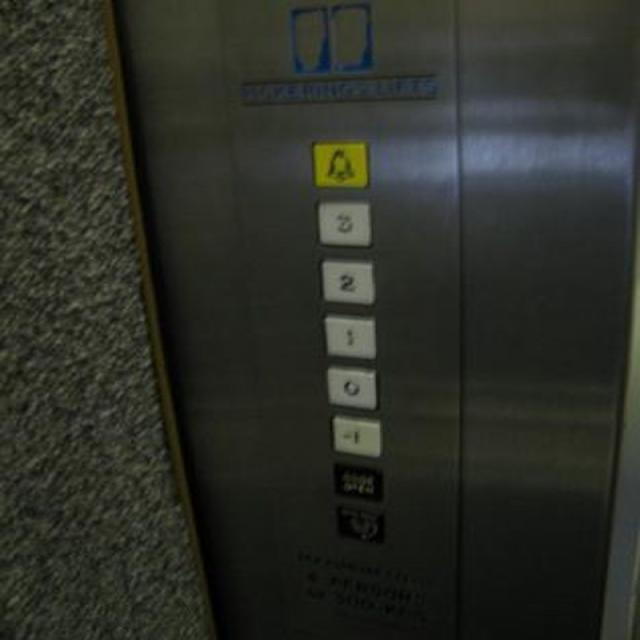-1: (331, 414, 381, 456)
0: (325, 364, 375, 409)
1: (322, 315, 374, 358)
2: (320, 259, 373, 304)
3: (316, 200, 371, 246)
alarm: (312, 140, 367, 186)
text_blur: (332, 462, 383, 500), (334, 506, 382, 542)
